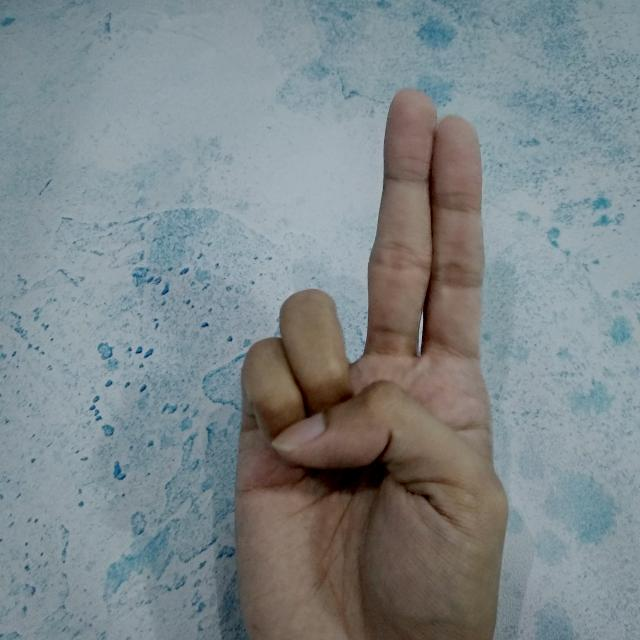U: (225, 80, 515, 640)
